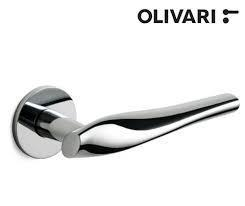doorhandle: (15, 69, 241, 170)
